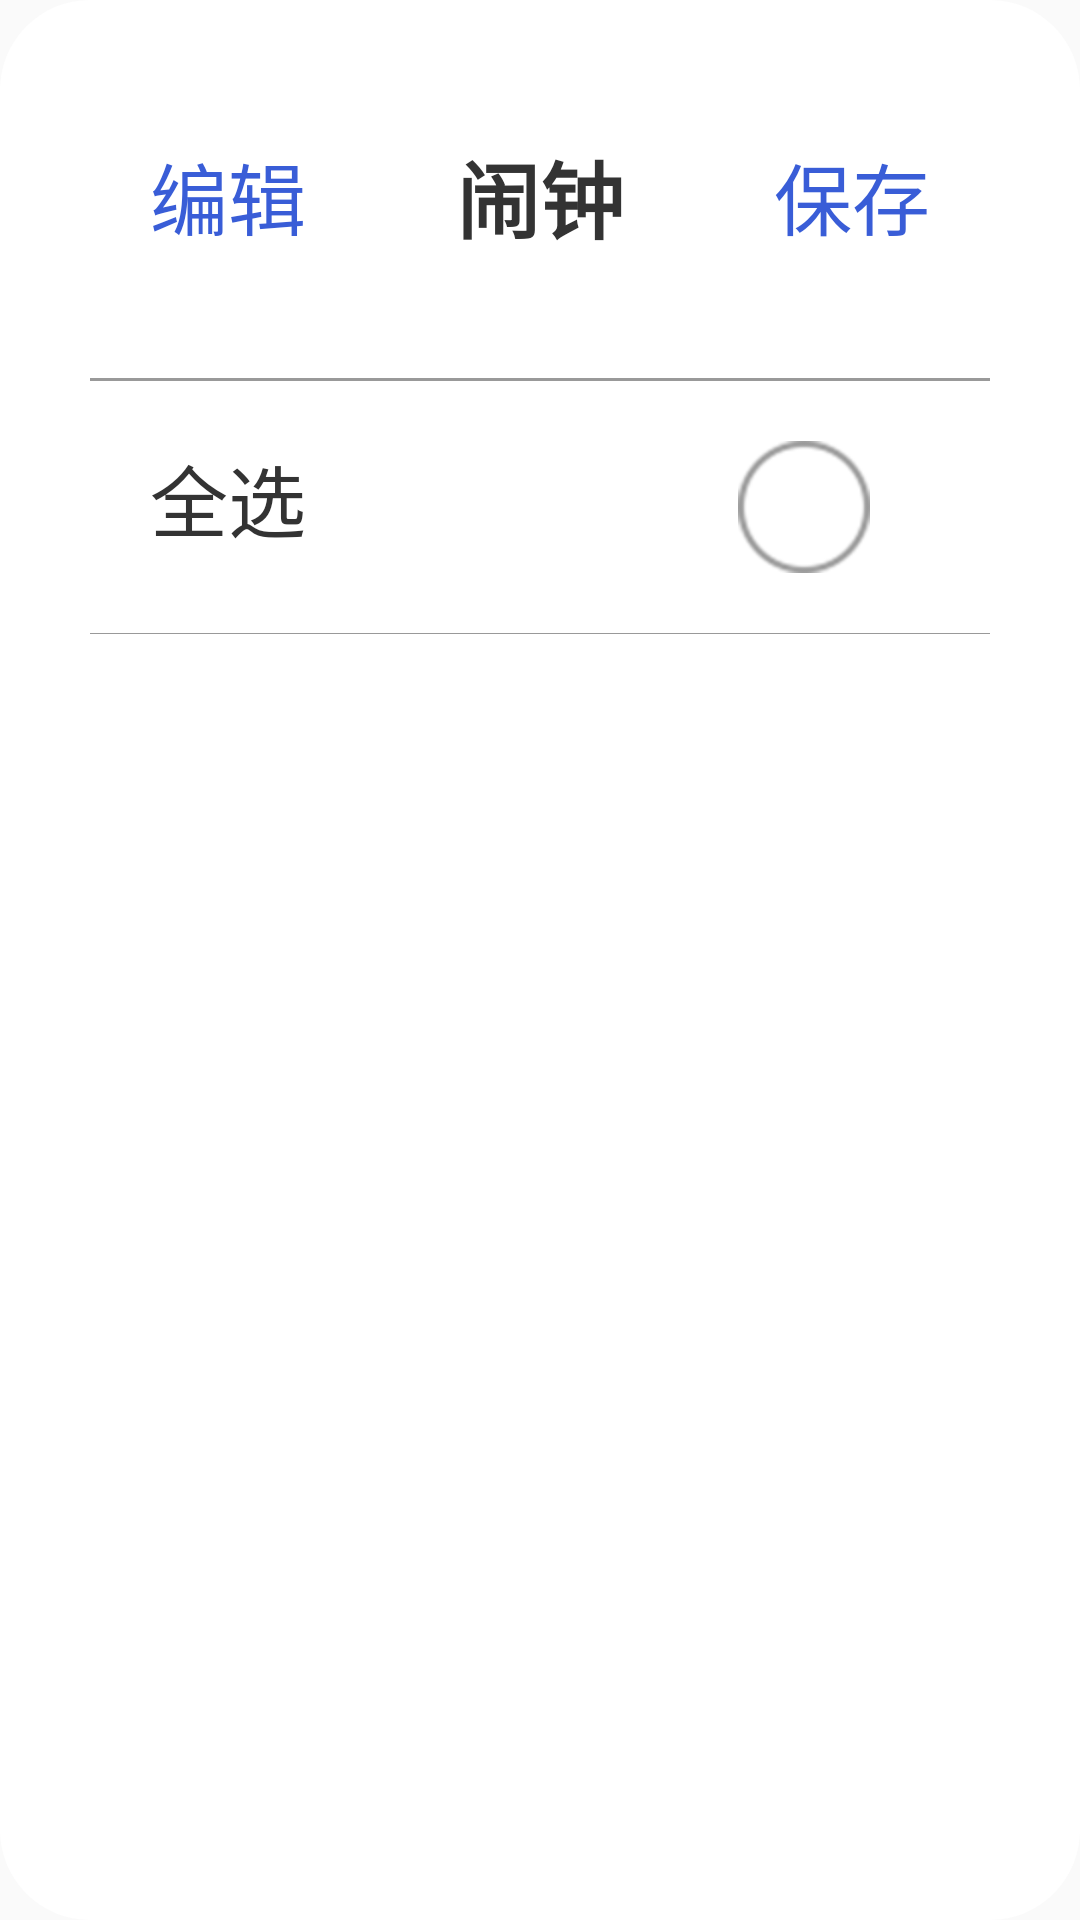

Icons on this 1080px x 1920px Android screen, each with its box as {"left": x1, "top": y1, "right": x2, "bottom": y2}:
unselect: {"left": 738, "top": 441, "right": 870, "bottom": 573}
